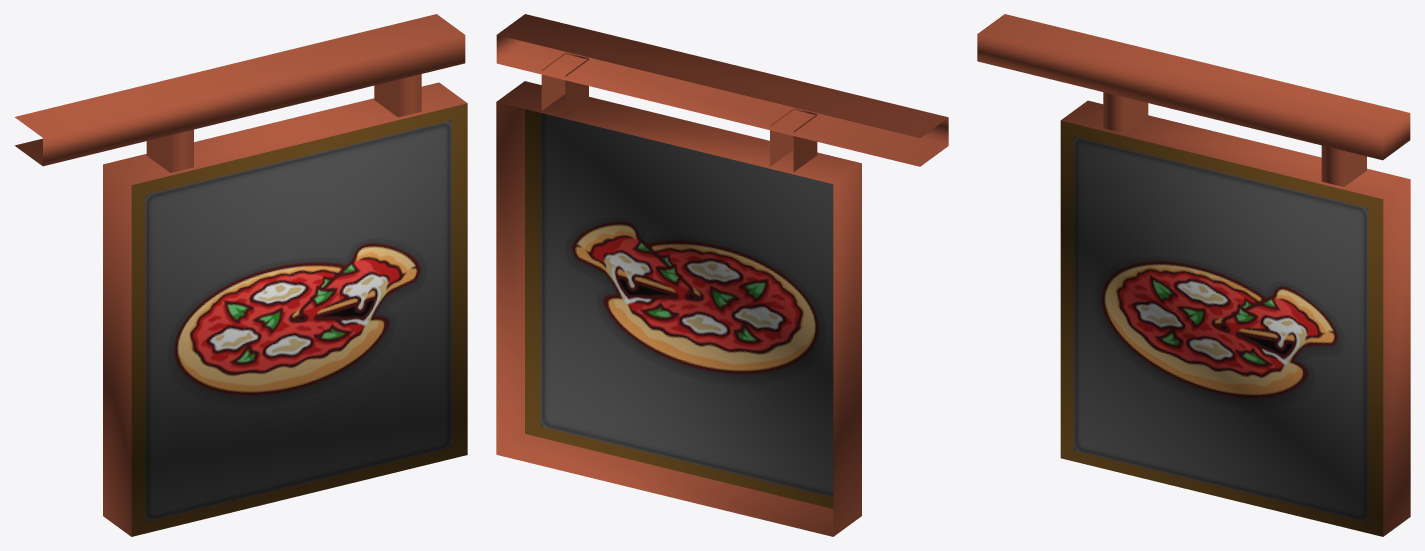
The model's file is SquareBoard_L.fbx.
3 views of the same model, side by side, from view 1: azimuth 30°, elevation 25°; view 2: azimuth 150°, elevation 25°; view 3: azimuth 330°, elevation 25° (orthographic). The views are drawn at different scales.
Visible parts, largest first — view 1: Pizza_Board; view 2: Pizza_Board; view 3: Pizza_Board.
Boxes of the visible parts, <box> form: Pizza_Board: <box>14,14,467,536</box>; Pizza_Board: <box>496,14,948,536</box>; Pizza_Board: <box>977,14,1410,536</box>.
Size of the model in its own units: 0.4576 by 0.4331 by 0.0553.
